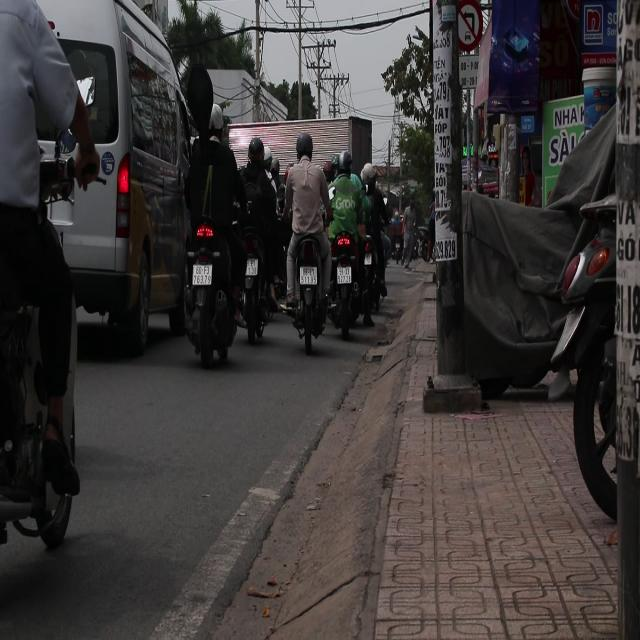car: (6, 0, 199, 372)
motorbike: (0, 234, 91, 554), (180, 212, 238, 384), (282, 226, 333, 354), (235, 224, 275, 358), (330, 230, 362, 357)
